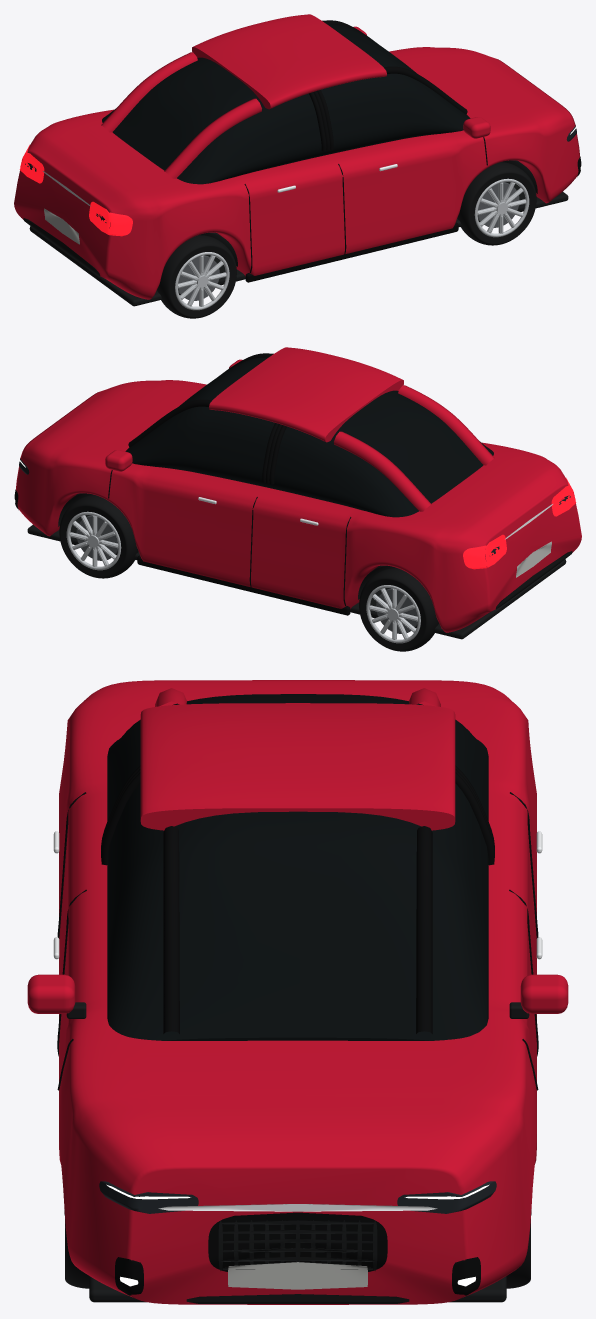
Rendered from honda-amaze.glb.
3 renders of one model, top to bottom at view 1: azimuth 30°, elevation 25°; view 2: azimuth 150°, elevation 25°; view 3: azimuth 270°, elevation 25°, orthographic. The views are drawn at different scales.
Visible parts, largest first — view 1: Body, Glasshouse, Roof, Tyre (×2), Pillar (×3), Trim (×2), Taillamp (×2), Rim (×2), GlossBlack, Disc (×2), Paint, Plate; view 2: Body, Glasshouse, Roof, Tyre (×2), Pillar (×3), Trim (×2), Taillamp (×2), Rim (×2), GlossBlack, Disc (×2), Paint, Plate; view 3: Body, Glasshouse, Roof, GlossBlack (×3), Pillar (×2), Paint (×2), Plate, Trim (×2), Headlamp (×2), Chrome, BPillar (×2).
Boxes of the visible parts, x1=… form: Body: x1=14, y1=47, x2=579, y2=299; Glasshouse: x1=102, y1=24, x2=470, y2=184; Roof: x1=192, y1=14, x2=386, y2=109; Tyre (×2): x1=157, y1=162, x2=536, y2=318; Pillar (×3): x1=101, y1=52, x2=467, y2=178; Trim (×2): x1=23, y1=182, x2=568, y2=306; Taillamp (×2): x1=19, y1=145, x2=132, y2=236; Rim (×2): x1=175, y1=178, x2=529, y2=310; GlossBlack: x1=245, y1=222, x2=458, y2=282; Disc (×2): x1=178, y1=182, x2=519, y2=300; Paint: x1=463, y1=117, x2=490, y2=138; Plate: x1=44, y1=208, x2=79, y2=244; Body: x1=16, y1=380, x2=581, y2=632; Glasshouse: x1=125, y1=357, x2=493, y2=517; Roof: x1=209, y1=347, x2=403, y2=442; Tyre (×2): x1=59, y1=495, x2=438, y2=651; Pillar (×3): x1=128, y1=385, x2=494, y2=511; Trim (×2): x1=27, y1=515, x2=572, y2=639; Taillamp (×2): x1=463, y1=478, x2=576, y2=569; Rim (×2): x1=66, y1=511, x2=420, y2=643; GlossBlack: x1=137, y1=555, x2=350, y2=615; Disc (×2): x1=76, y1=515, x2=417, y2=633; Paint: x1=105, y1=450, x2=132, y2=471; Plate: x1=516, y1=541, x2=551, y2=577; Body: x1=59, y1=680, x2=536, y2=1304; Glasshouse: x1=107, y1=694, x2=488, y2=1040; Roof: x1=140, y1=703, x2=455, y2=830; GlossBlack (×3): x1=115, y1=1212, x2=480, y2=1295; Pillar (×2): x1=163, y1=826, x2=432, y2=1033; Paint (×2): x1=27, y1=974, x2=568, y2=1013; Plate: x1=228, y1=1262, x2=367, y2=1289; Trim (×2): x1=89, y1=1276, x2=506, y2=1303; Headlamp (×2): x1=99, y1=1181, x2=496, y2=1213; Chrome: x1=158, y1=1204, x2=437, y2=1211; BPillar (×2): x1=101, y1=772, x2=494, y2=865.
Size of the model in its own units: 3.96 by 1.51 by 1.93.
